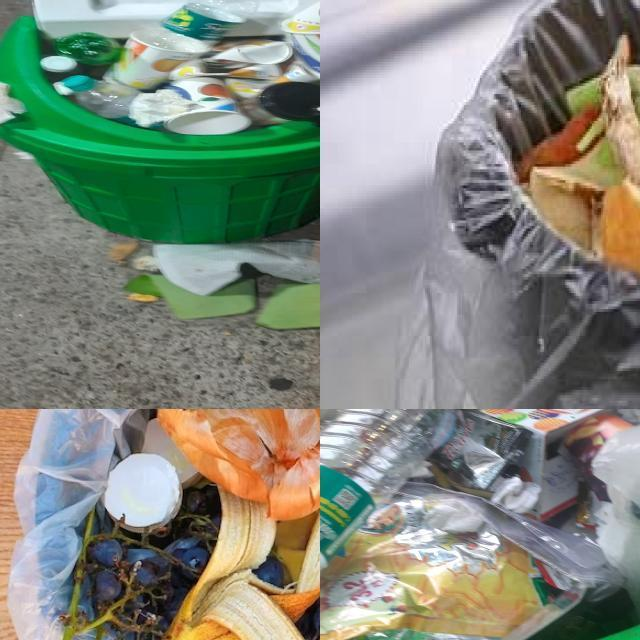Disposable: (236, 81, 320, 126)
Garbage: (320, 409, 640, 640), (60, 409, 320, 640), (20, 0, 320, 136), (519, 34, 640, 270)
Plastic: (104, 454, 182, 532), (39, 56, 76, 72)
Plastic_Bag: (588, 419, 640, 619), (480, 448, 484, 452)
Plastic_bottle: (320, 409, 455, 571), (142, 0, 260, 53), (60, 76, 145, 127), (53, 32, 123, 65)
Plastic_wraper: (320, 482, 623, 640), (430, 409, 530, 491), (224, 63, 317, 99), (575, 481, 597, 529), (233, 67, 256, 73), (250, 139, 256, 142)
Tetrapack: (482, 409, 611, 519)
